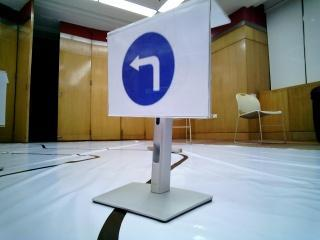left: (115, 27, 200, 109)
